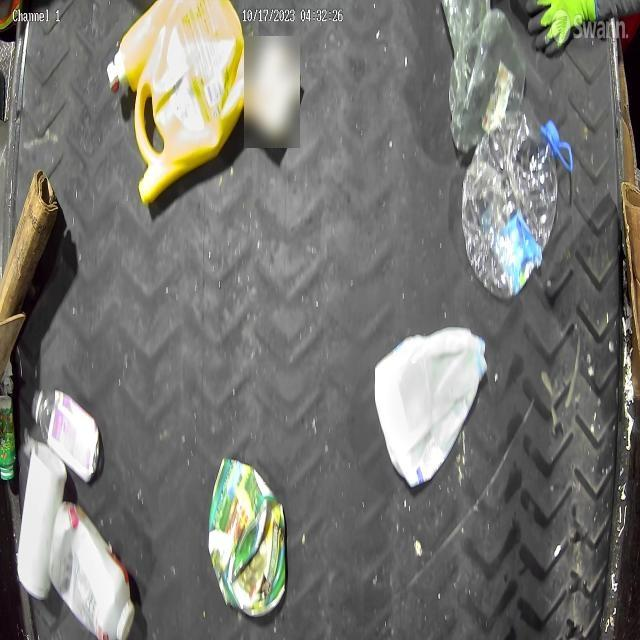milk_jug: (373, 325, 491, 485)
non_white_jug: (121, 2, 248, 210), (208, 454, 288, 616)
plastic_bottle: (465, 110, 560, 298)
